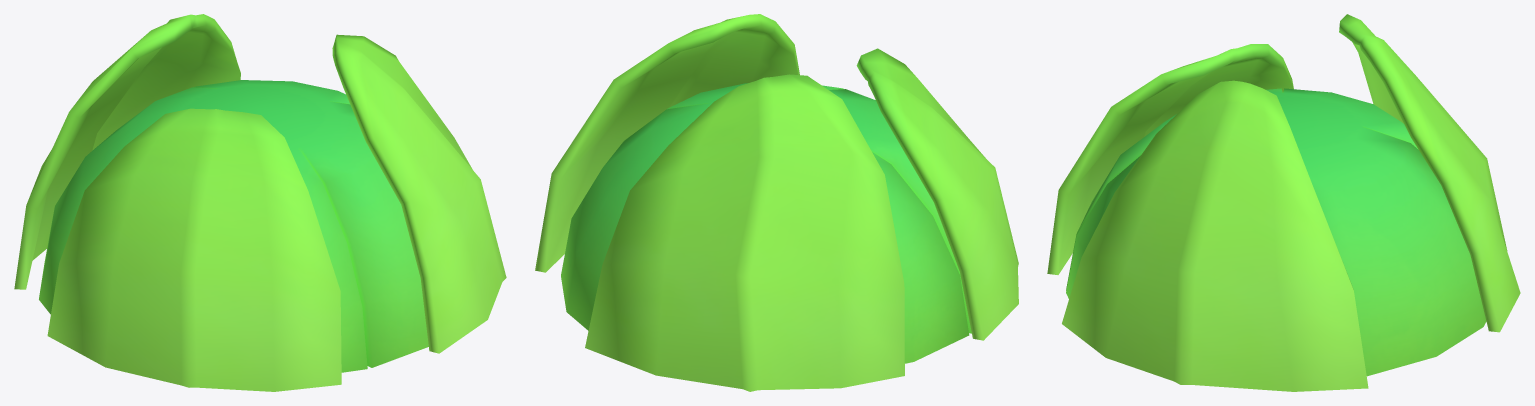
File: lettuce_top.glb
3 views of the same model, side by side, from view 1: azimuth 30°, elevation 25°; view 2: azimuth 150°, elevation 25°; view 3: azimuth 270°, elevation 25° (orthographic). The views are drawn at different scales.
Visible parts, largest first — view 1: LettuceTopA; view 2: LettuceTopA; view 3: LettuceTopA.
Boxes of the visible parts, x1,y1,x2,y2 form: LettuceTopA: (14, 14, 506, 391); LettuceTopA: (535, 14, 1018, 391); LettuceTopA: (1047, 14, 1520, 391).
Size of the model in its own units: 1.23 by 0.7019 by 1.23.
Materials: 1 (1 with a texture image).
